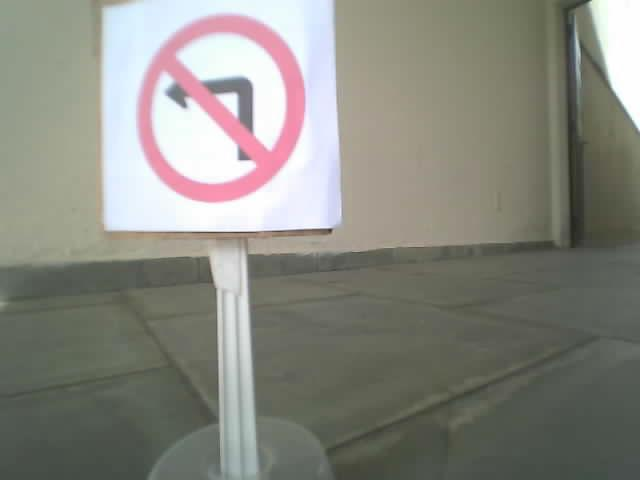R-4a_proibido-esquerda: (135, 13, 305, 203)
